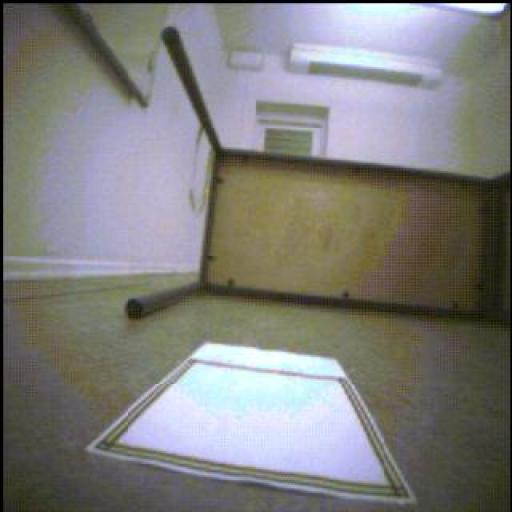Pad: (152, 339, 375, 501)
